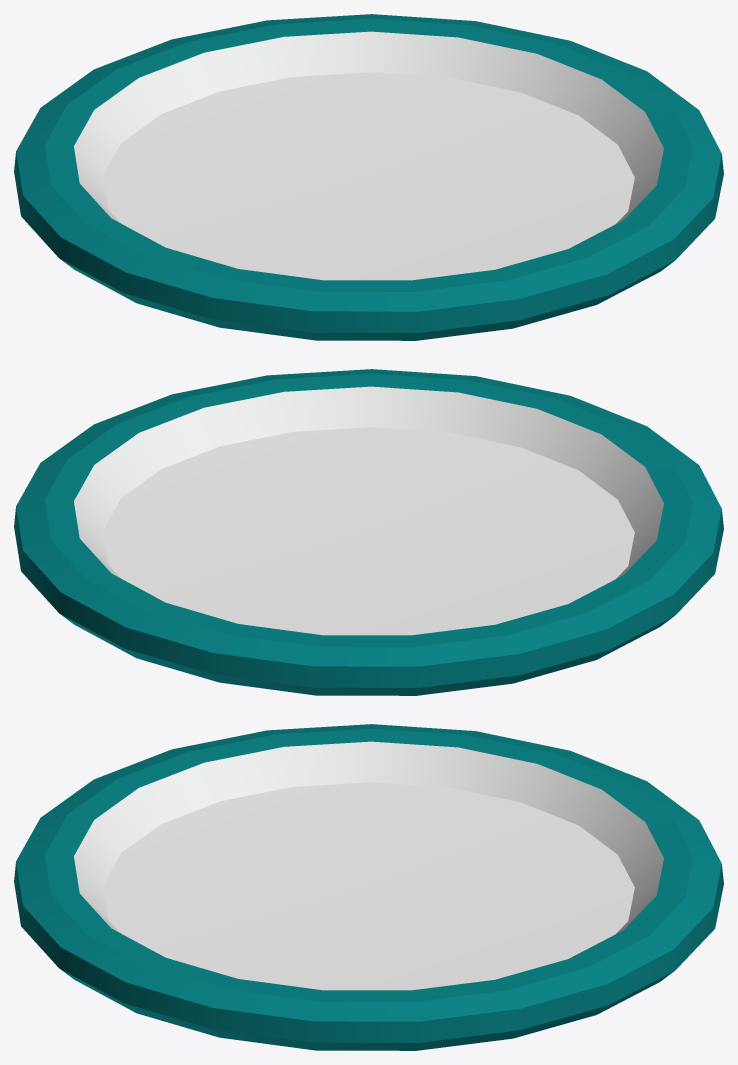
The model's file is Plate_1_F.glb.
The picture shows the model from 3 angles, top to bottom: view 1: azimuth 30°, elevation 25°; view 2: azimuth 150°, elevation 25°; view 3: azimuth 270°, elevation 25°; orthographic projection.
Visible parts, largest first — view 1: Plate_1_F; view 2: Plate_1_F; view 3: Plate_1_F.
Part boxes in pixels (x1,y1,x2,y2): Plate_1_F: [14, 14, 723, 340]; Plate_1_F: [14, 369, 723, 695]; Plate_1_F: [14, 724, 723, 1050].
Bounding box in the file's own units: 0.4296 × 0.0479 × 0.4305.
Materials: 1 (1 with a texture image).
